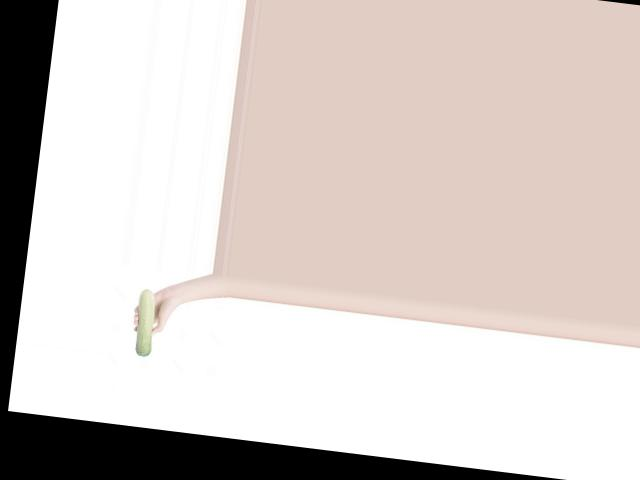cucumber: (133, 287, 159, 358)
